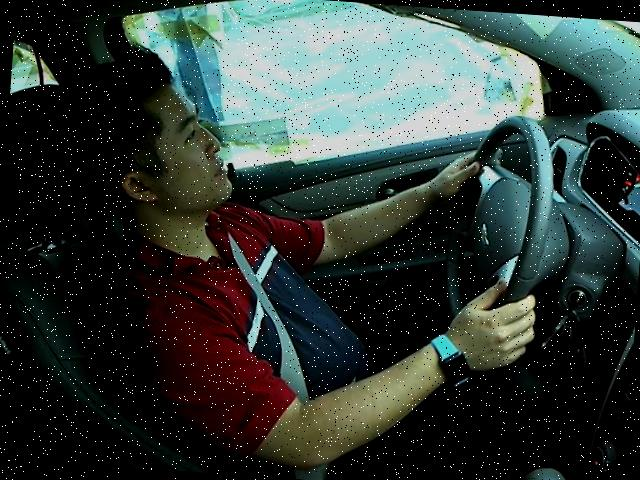c0 - Safe Driving: (26, 49, 568, 441)
